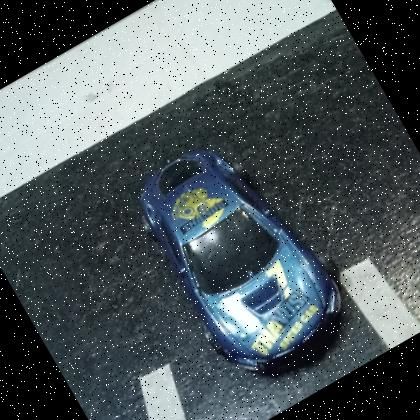Car: (140, 149, 343, 376)
